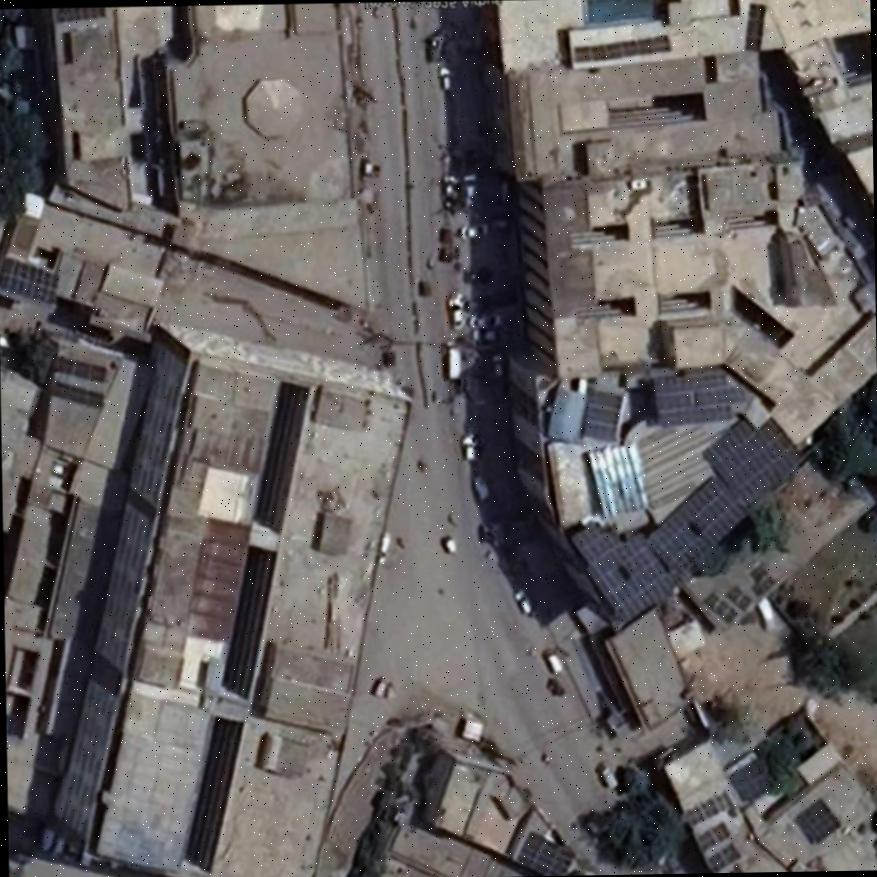Solarpanel: (570, 499, 676, 618), (647, 476, 750, 572), (705, 406, 805, 504), (652, 369, 746, 422), (516, 826, 576, 875), (576, 385, 624, 440), (793, 798, 842, 848), (572, 36, 670, 61), (0, 259, 55, 303), (727, 760, 776, 802), (683, 787, 733, 824), (51, 353, 106, 380), (50, 381, 101, 408), (744, 4, 767, 50), (697, 819, 732, 849), (706, 842, 739, 871), (55, 7, 104, 22)
